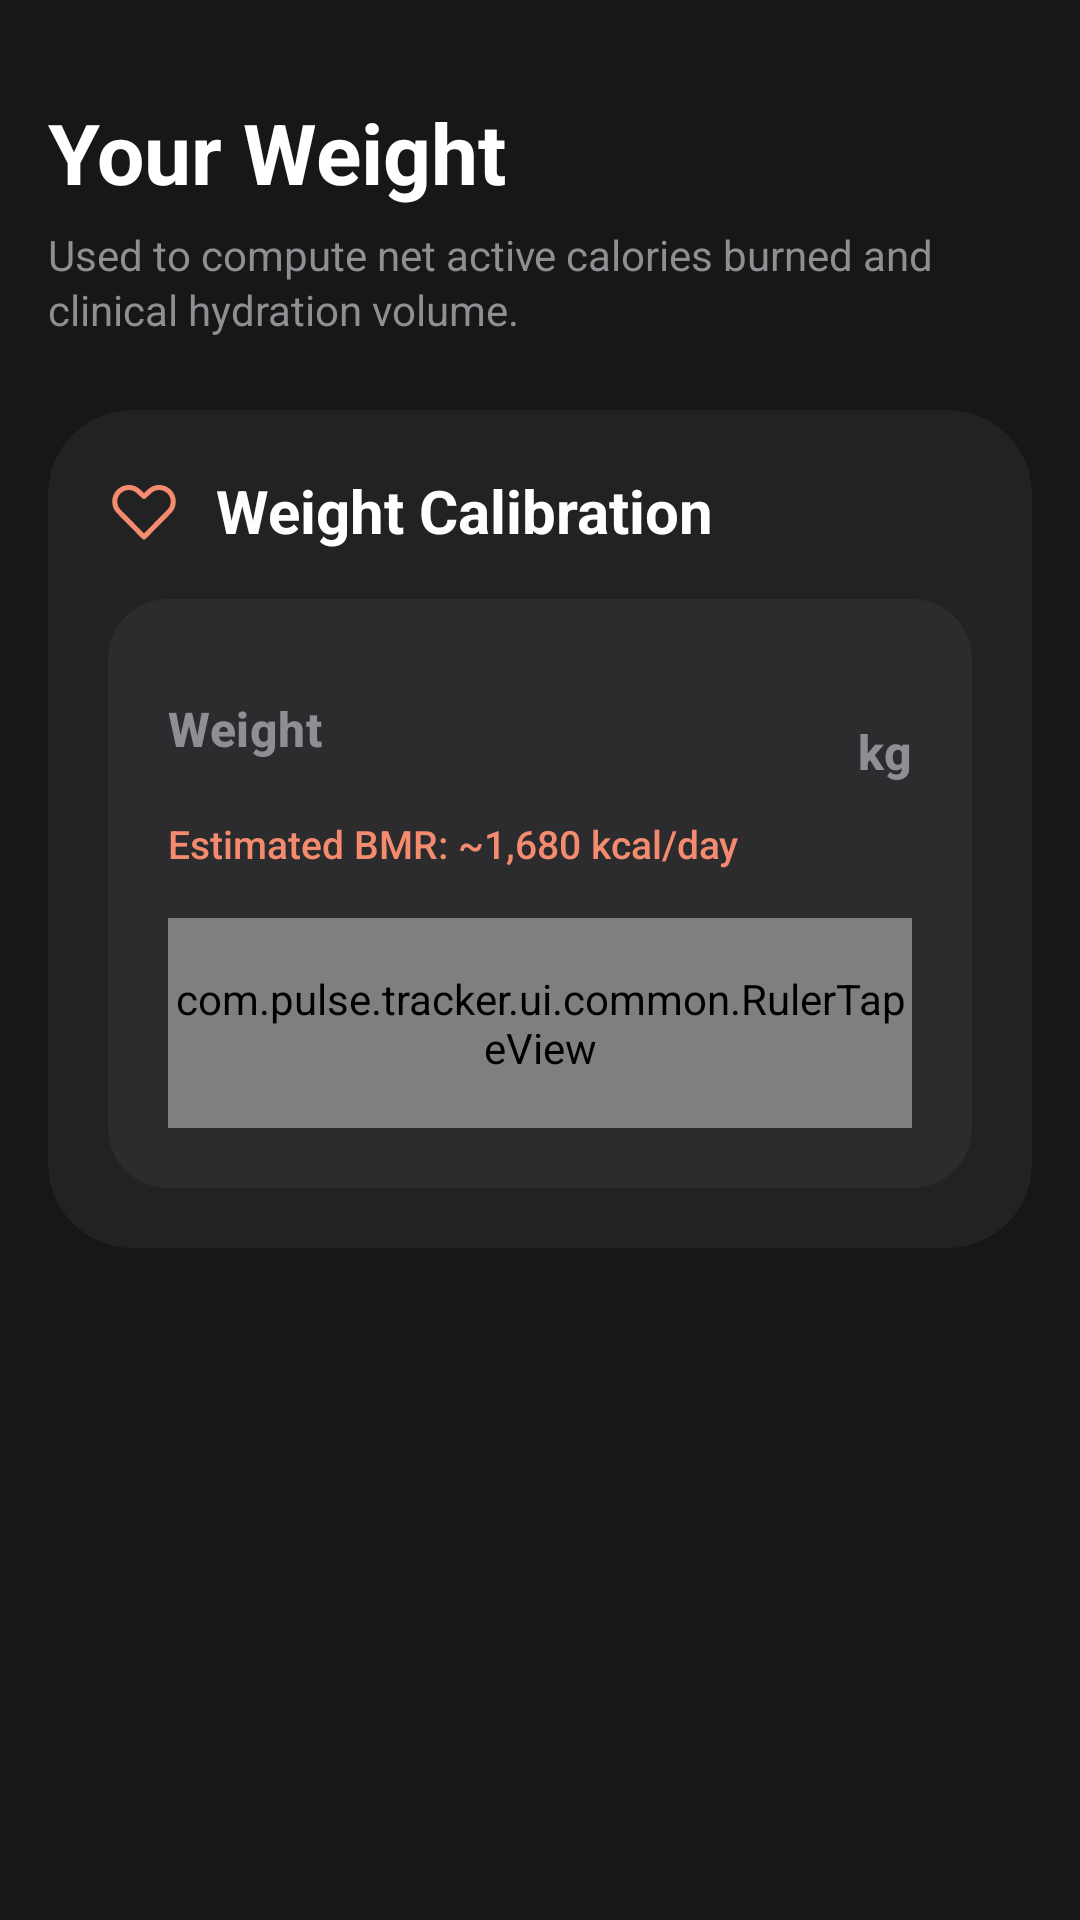

Icon bounding boxes for this 1080 x 1920 phone screenshot, format box(x1, y1, x2, y2):
heart: box(112, 485, 176, 540)
